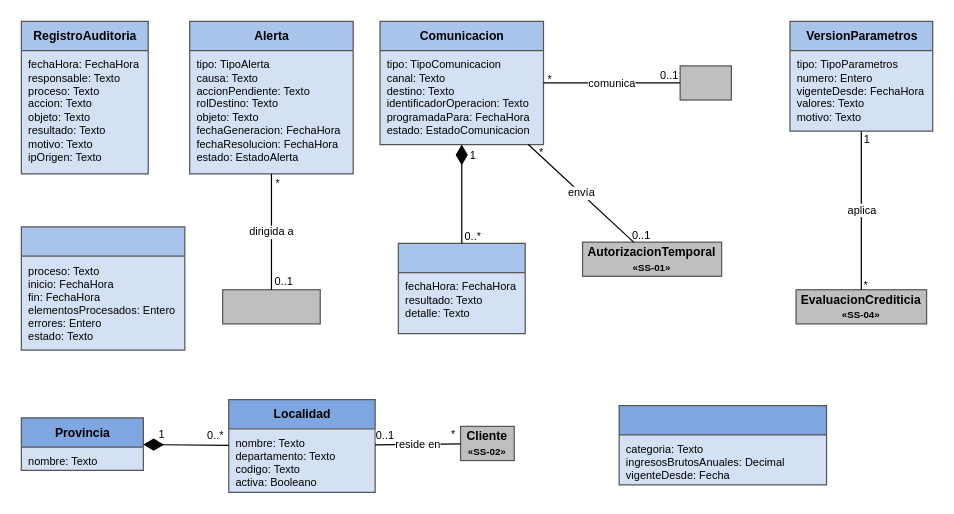
The diagram is 954 pixels wide and 514 high, and some of its shapes have lost their labels. Each missing label, with the box of its shape:
CategoriaMonotributo: (618, 404, 827, 485)
EjecucionProceso: (20, 226, 185, 350)
IntentoEnvio: (397, 242, 525, 334)
Oferta «SS-08»: (679, 65, 731, 100)
UsuarioInterno «SS-01»: (221, 289, 320, 324)
